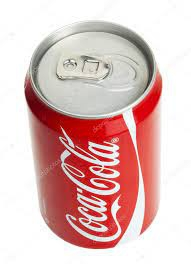can: (25, 17, 166, 252)
